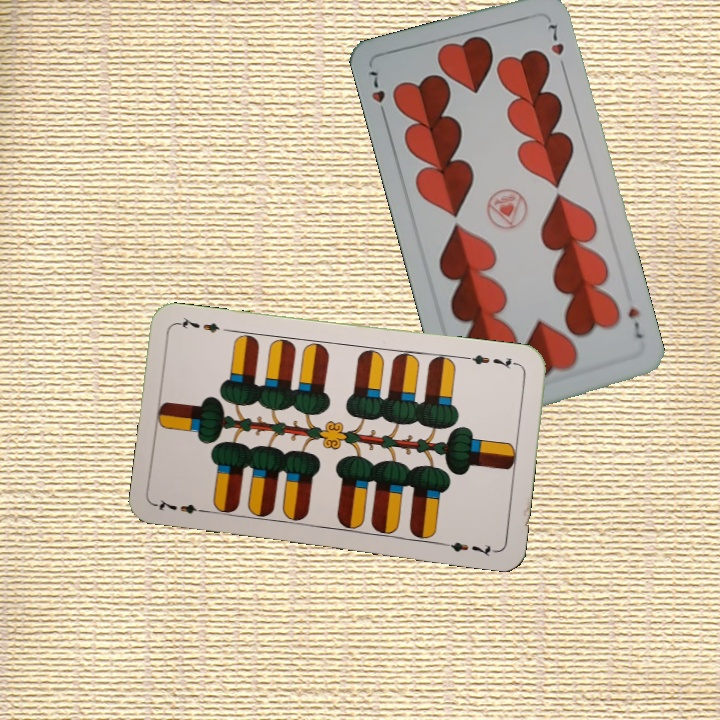E7: (153, 495, 212, 517), (462, 350, 522, 371)
H7: (364, 67, 390, 122), (623, 303, 645, 342)
